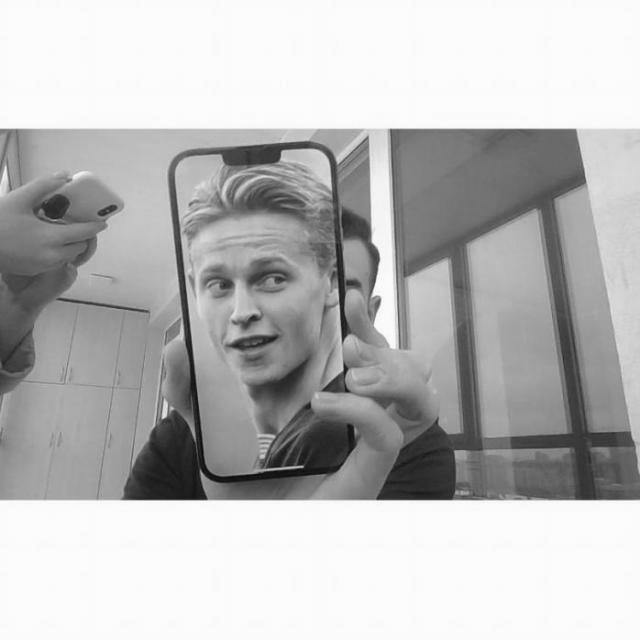fake: (166, 141, 355, 483)
